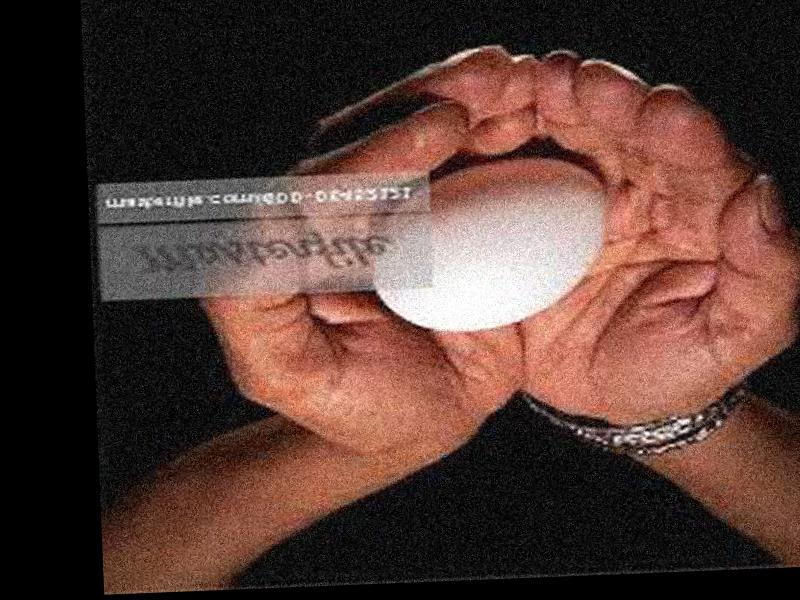Eggs: (368, 152, 613, 335)
